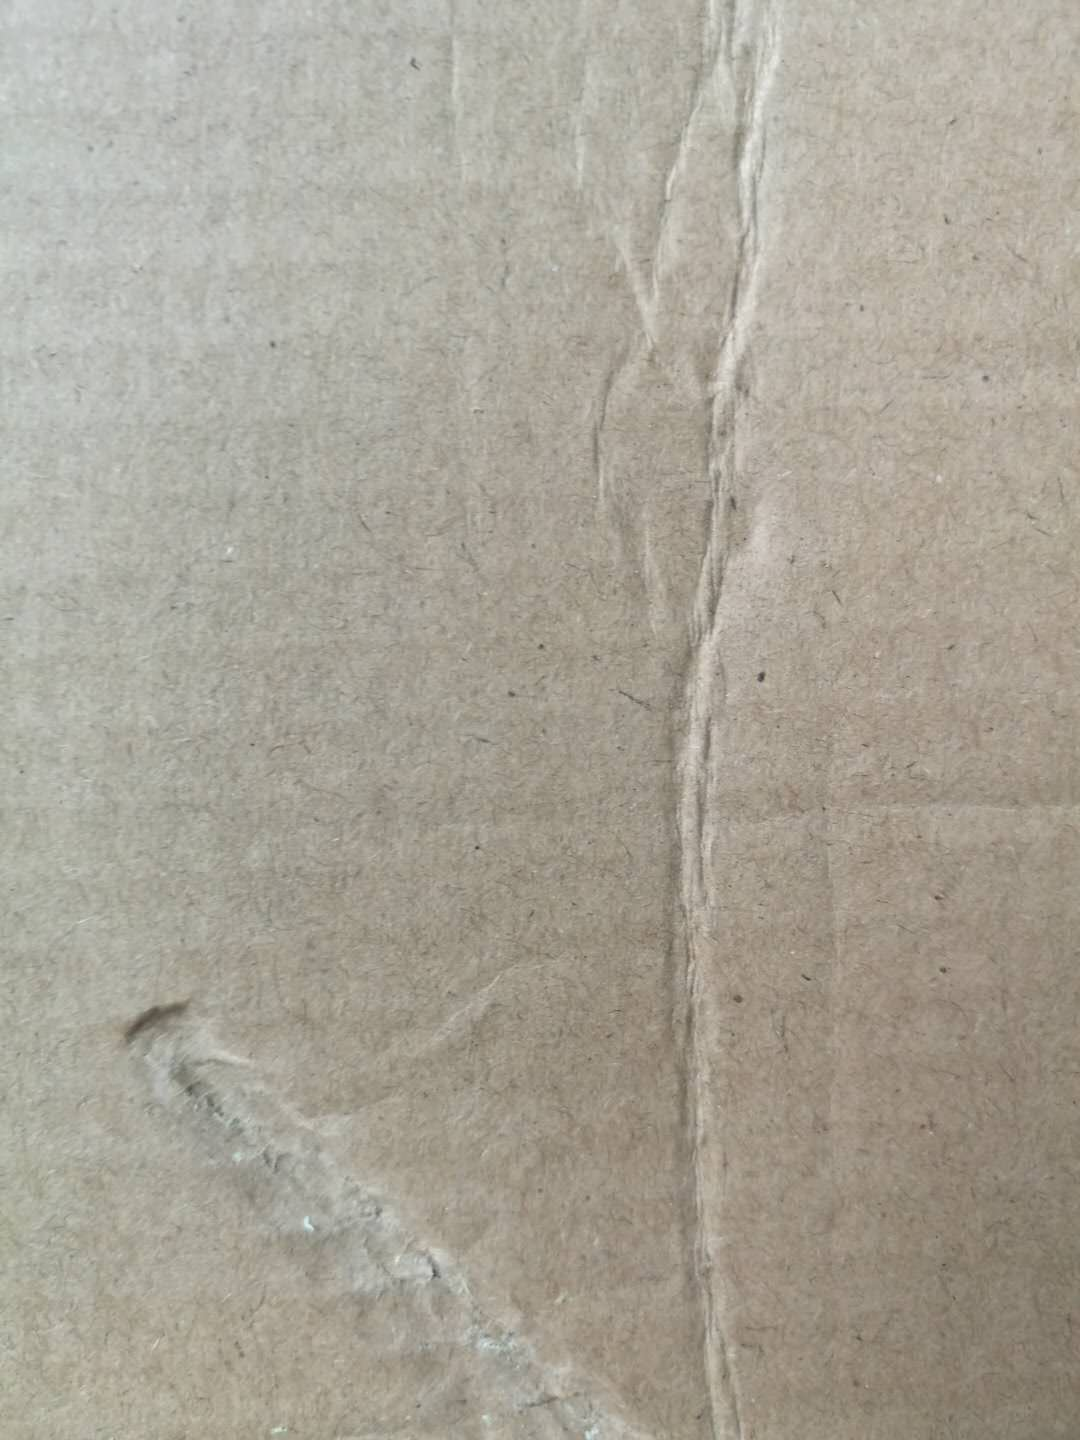defect: (465, 5, 917, 1435), (83, 962, 686, 1440), (786, 752, 1080, 873)
